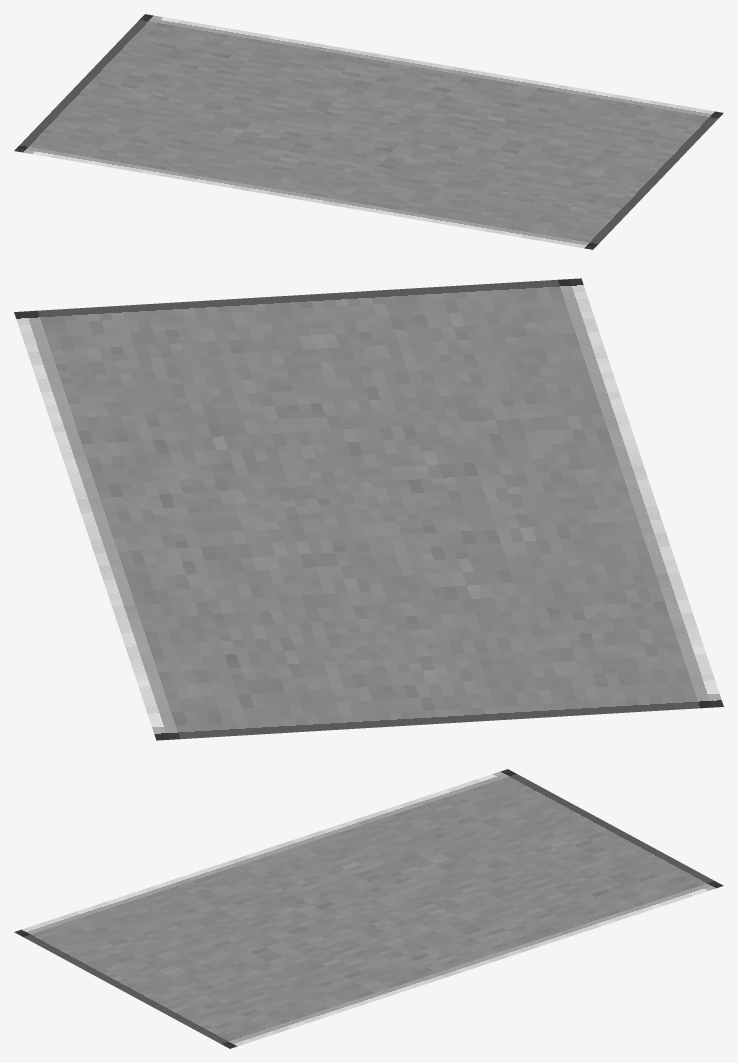
The model's file is metal_table_primary.glb.
The picture shows the model from 3 angles, top to bottom: view 1: azimuth 30°, elevation 25°; view 2: azimuth 150°, elevation 25°; view 3: azimuth 270°, elevation 25°; orthographic projection. The views are drawn at different scales.
Visible parts, largest first — view 1: Object; view 2: Object; view 3: Object.
Boxes of the visible parts, x1=… form: Object: x1=14, y1=14, x2=723, y2=249; Object: x1=14, y1=278, x2=723, y2=740; Object: x1=14, y1=769, x2=723, y2=1048.
Bounding box in the file's own units: 1.74 × 0 × 1.87.
Materials: 1 (1 with a texture image).
